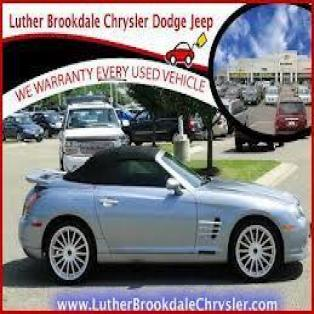Auto: (19, 146, 310, 285)
